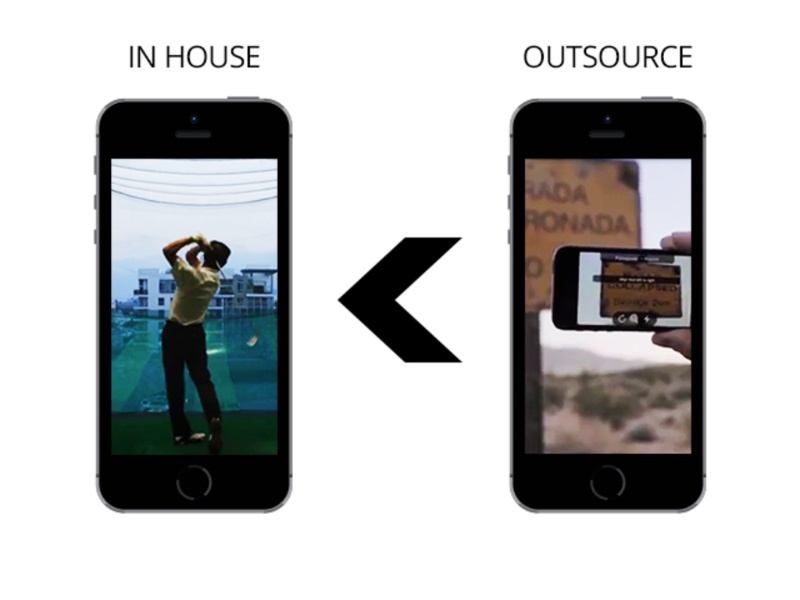cellphone: (500, 90, 709, 527), (91, 94, 301, 516)
